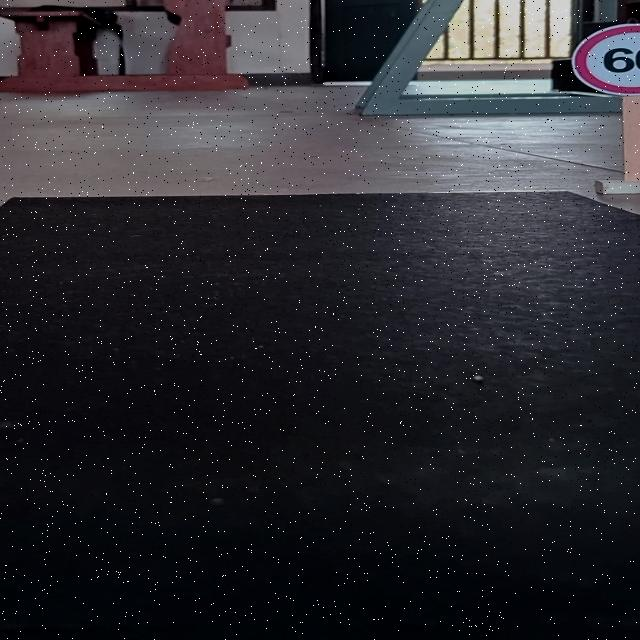Speed60: (567, 20, 640, 98)
